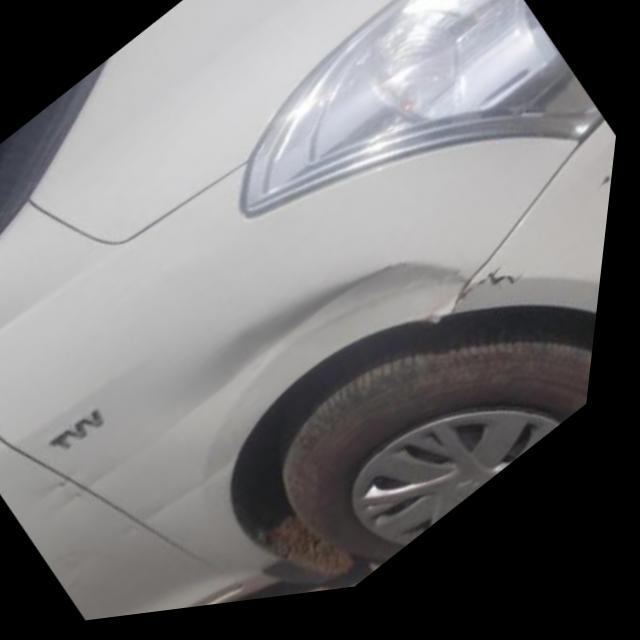crack: (467, 281, 536, 322)
dent: (223, 270, 475, 447)
scratch: (50, 398, 221, 526), (129, 464, 245, 546)
